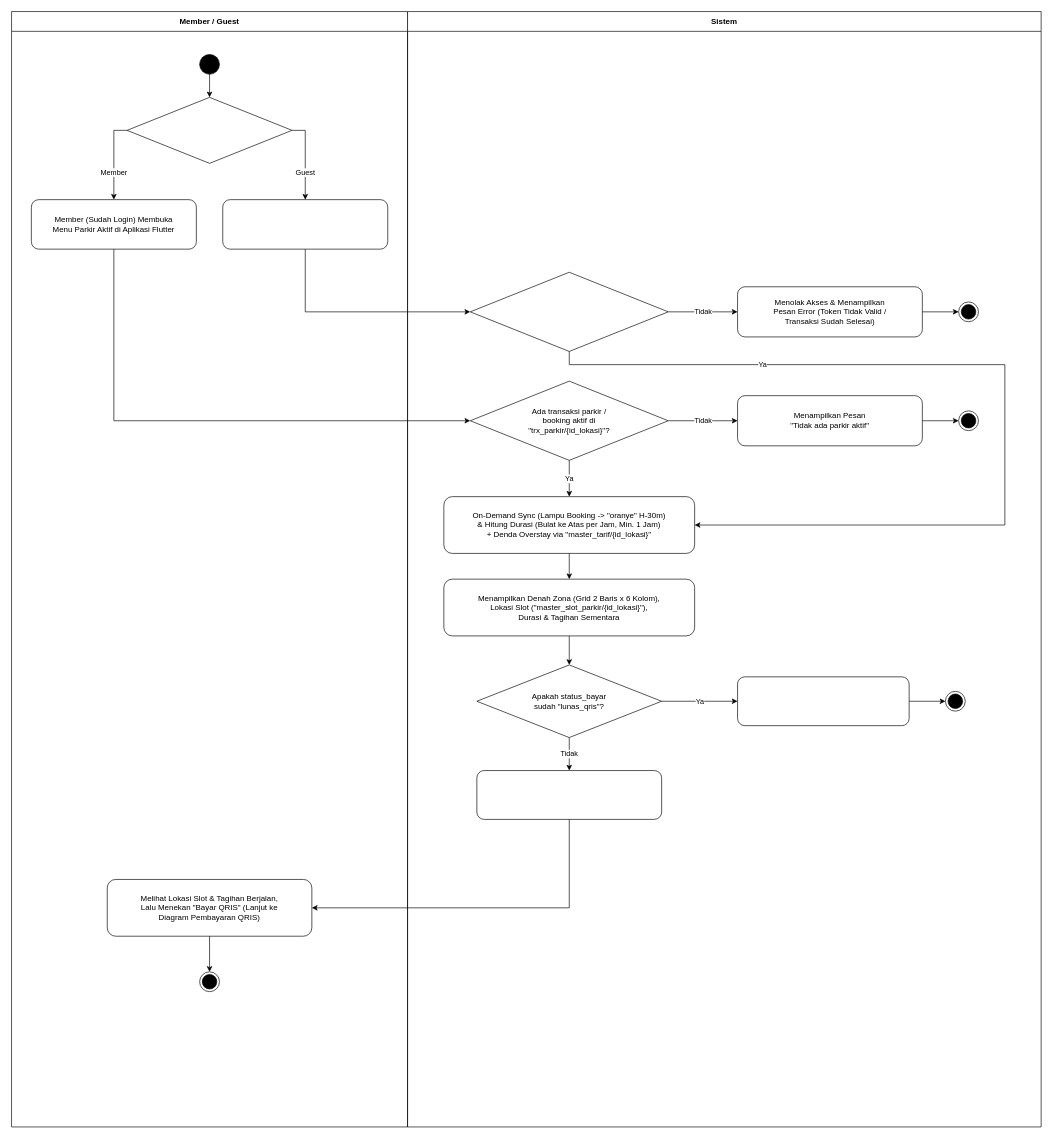
This 1053x1139 diagram has some shape labels left out. The shapes that lost their labels are listed below. From the top down, each one's centre as x and y in pixels, then its label:
the point at 209,130: Jalur Masuk Pengguna?
the point at 305,224: Guest Memindai QR Karcis Masuk (Tautan Memuat guest_token)
the point at 569,311: guest_token cocok di "trx_parkir/{id_lokasi}" & transaksi belum selesai?
the point at 823,701: Menampilkan Status "Sudah Lunas"
the point at 569,794: Menampilkan Tombol "Bayar QRIS" pada Layar Pengguna
